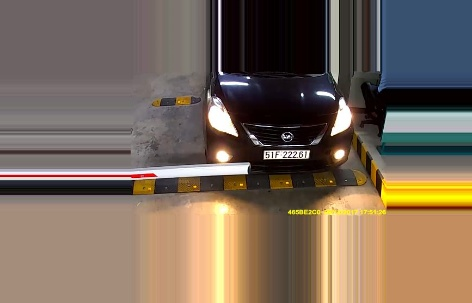plate: (264, 147, 309, 162)
